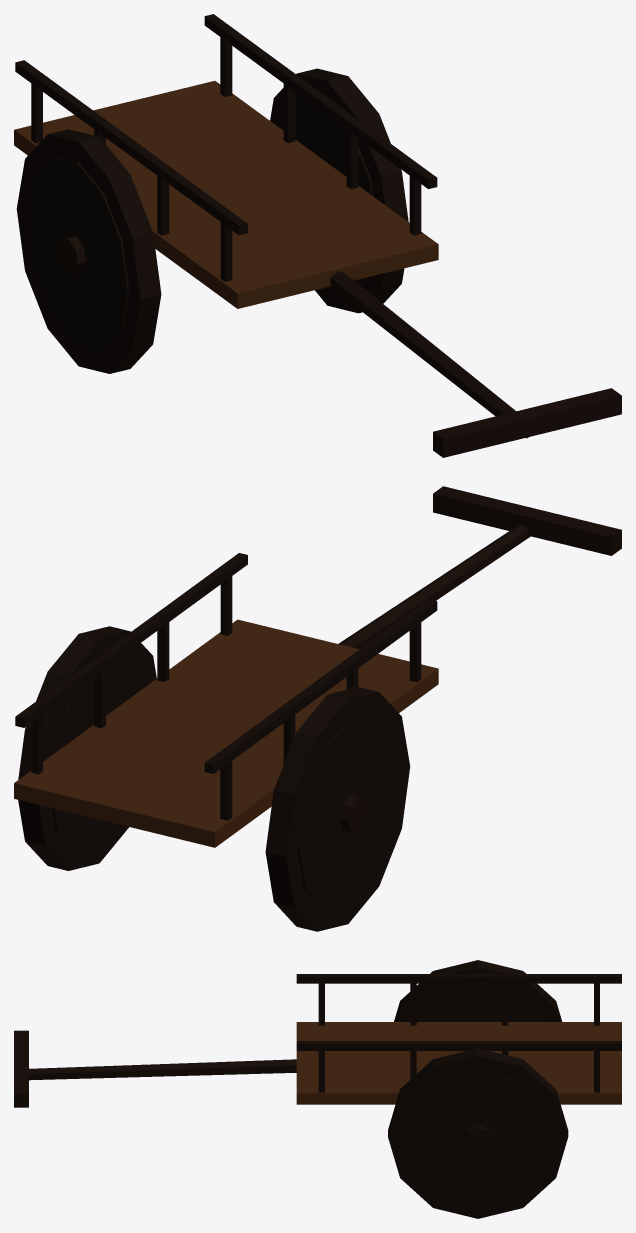
Rendered from ox_cart.fbx.
3 renders of one model, top to bottom at view 1: azimuth 30°, elevation 25°; view 2: azimuth 150°, elevation 25°; view 3: azimuth 270°, elevation 25°, orthographic. The views are drawn at different scales.
Visible parts, largest first — view 1: ox_cart; view 2: ox_cart; view 3: ox_cart.
Part boxes in pixels (x1,y1,x2,y2): ox_cart: (14, 14, 621, 457); ox_cart: (14, 486, 621, 931); ox_cart: (14, 960, 621, 1218).
Bounding box in the file's own units: 1.95 × 1.44 × 4.86.
